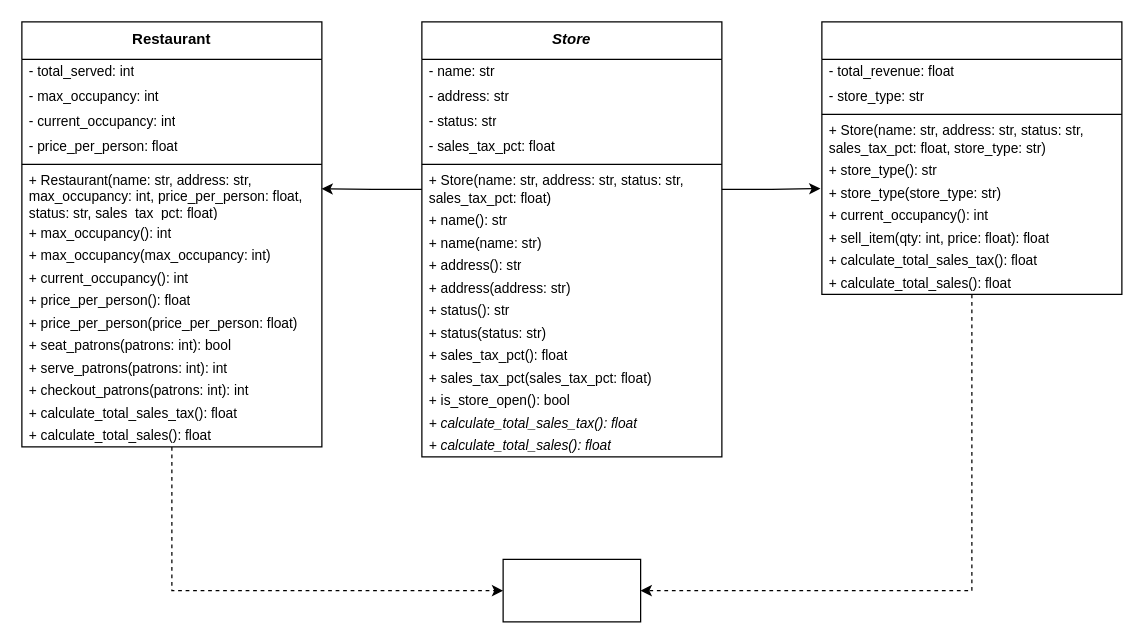
Some shapes in this 1144 by 644 pixel diagram are drawn without their labels. Each missing label, with the box of its shape:
GroceryStore: (821, 21, 1122, 294)
Shopping: (502, 558, 641, 622)
